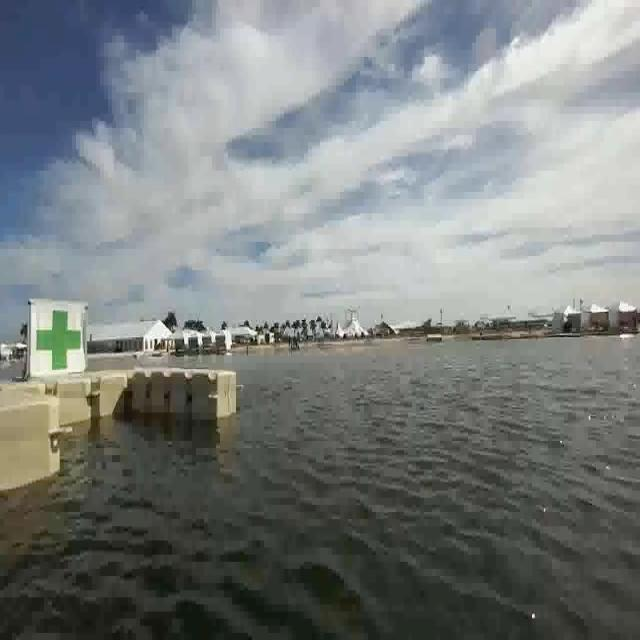blue-cross: (34, 302, 85, 378)
